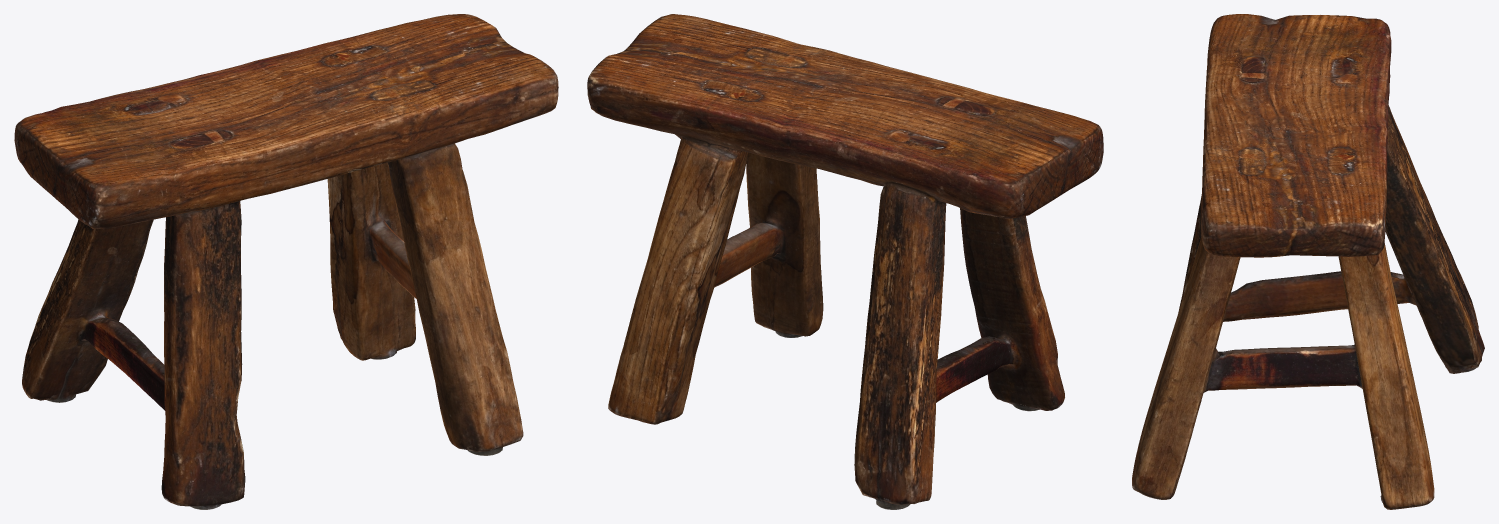
Rendered from wooden_stool_02_1k.gltf.
3 renders of one model, left to right at view 1: azimuth 30°, elevation 25°; view 2: azimuth 150°, elevation 25°; view 3: azimuth 270°, elevation 25°, orthographic. The views are drawn at different scales.
Visible parts, largest first — view 1: wooden_stool_02; view 2: wooden_stool_02; view 3: wooden_stool_02.
Part boxes in pixels (left/top/right/bottom): wooden_stool_02: left=14, top=14, right=558, bottom=509; wooden_stool_02: left=587, top=14, right=1103, bottom=509; wooden_stool_02: left=1132, top=14, right=1484, bottom=509.
Bounding box in the file's own units: 0.2652 × 0.1819 × 0.1831.
Materials: 1 (1 with a texture image).
